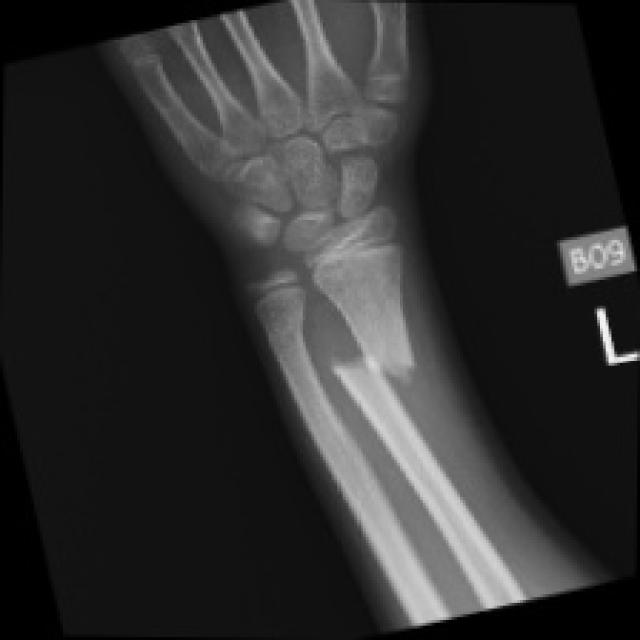fracture: (323, 308, 447, 414)
